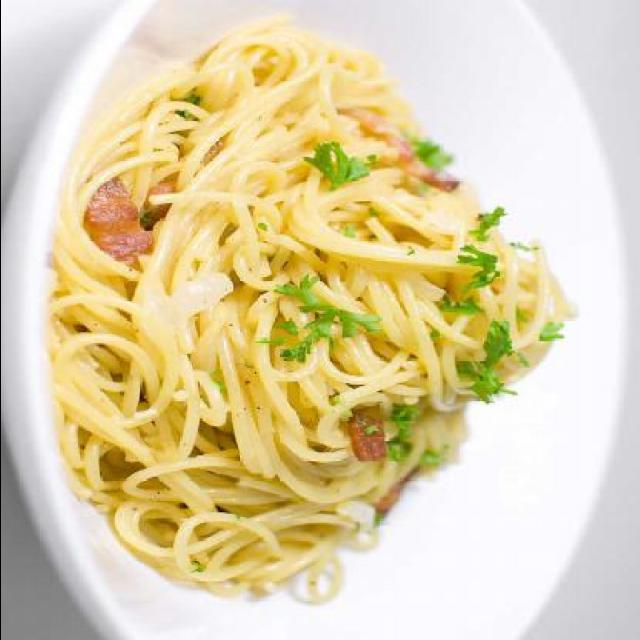Pasta with carbonara sauce: (12, 33, 616, 639)
